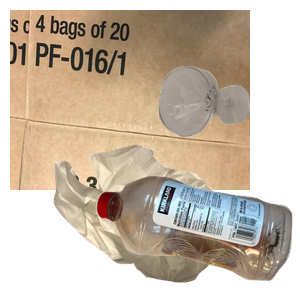cardboard: (10, 10, 250, 190)
glass: (156, 64, 300, 194)
plastic: (93, 173, 300, 300)
trash: (51, 142, 278, 300)
